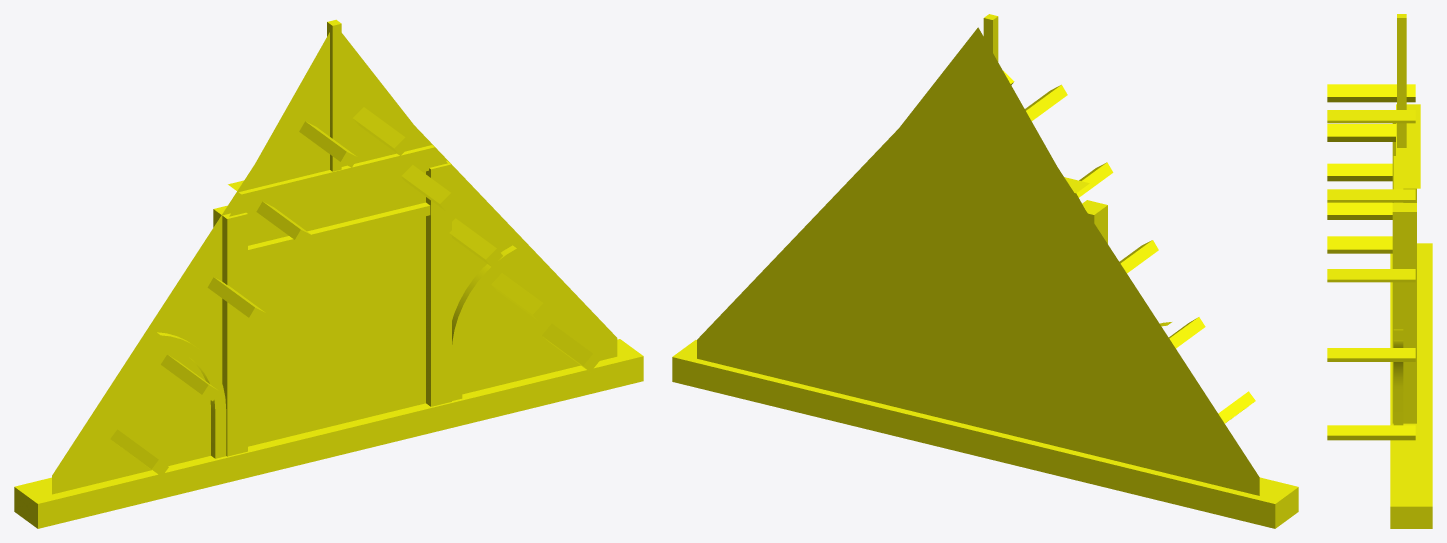
File: Roof_Front_Brick6.glb
The picture shows the model from 3 angles, left to right: view 1: azimuth 30°, elevation 25°; view 2: azimuth 150°, elevation 25°; view 3: azimuth 270°, elevation 25°; orthographic projection. The views are drawn at different scales.
Parts seen in each view (by area): view 1: Roof_Front_Brick6; view 2: Roof_Front_Brick6; view 3: Roof_Front_Brick6.
Boxes of the visible parts, x1,y1,x2,y2 form: Roof_Front_Brick6: [14, 19, 643, 528]; Roof_Front_Brick6: [672, 14, 1298, 528]; Roof_Front_Brick6: [1327, 14, 1432, 528].
Size of the model in its own units: 6.69 by 4.52 by 1.13.
Materials: 2 (2 with a texture image).
